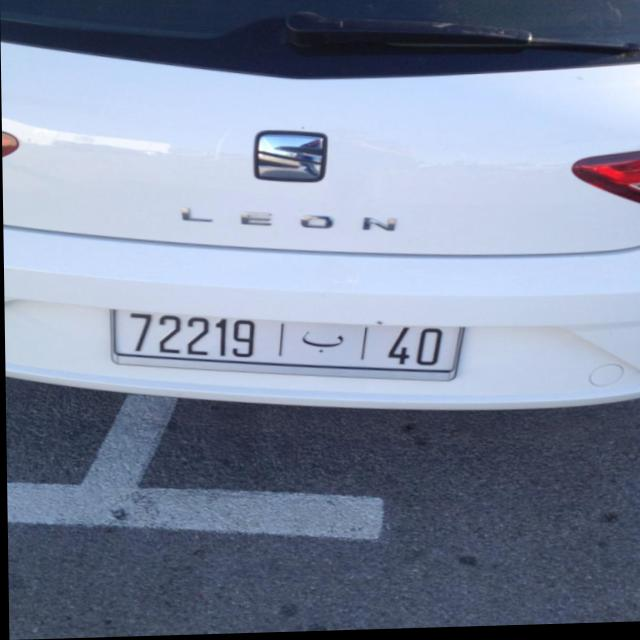License-Plate: (110, 311, 461, 383)
